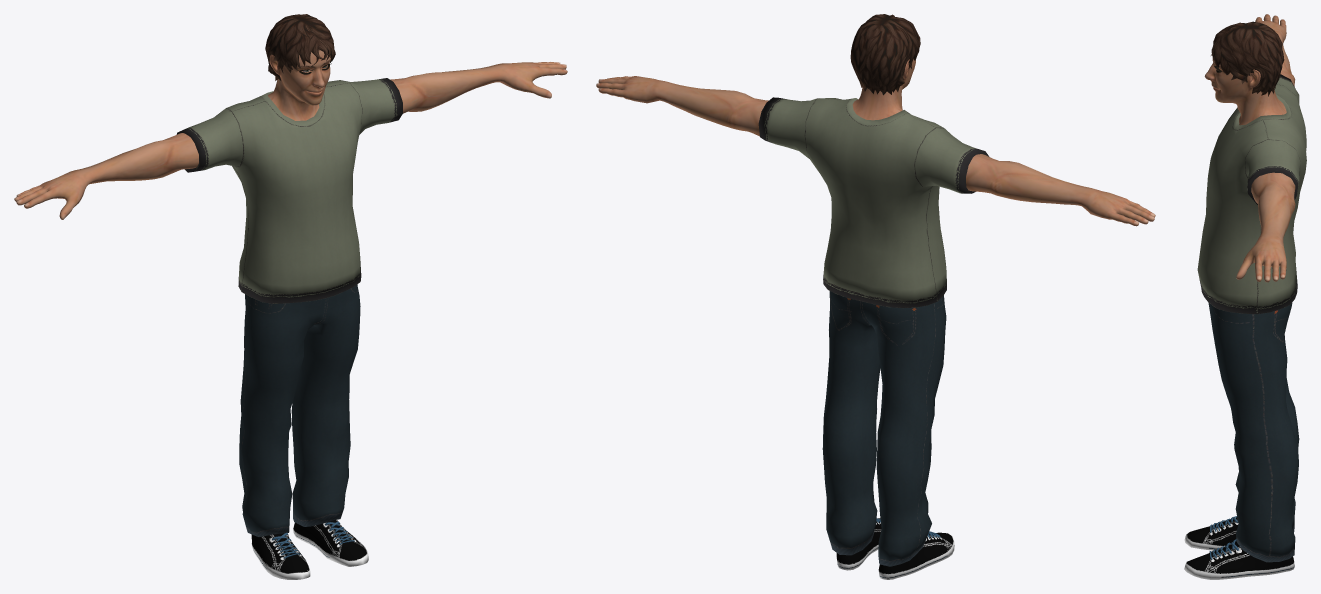
Rendered from Mixamo Fuse 1.obj.
3 views of the same model, side by side, from view 1: azimuth 30°, elevation 25°; view 2: azimuth 150°, elevation 25°; view 3: azimuth 270°, elevation 25° (orthographic).
Parts seen in each view (by area): view 1: ClothMesh_1, ClothMesh_2, BodyParts, ClothMesh_3, ClothMesh_0; view 2: ClothMesh_1, ClothMesh_2, BodyParts, ClothMesh_0, ClothMesh_3; view 3: ClothMesh_2, ClothMesh_1, BodyParts, ClothMesh_0, ClothMesh_3.
Part boxes in pixels (left/top/right/bottom): ClothMesh_1: left=176, top=78, right=402, bottom=303; ClothMesh_2: left=239, top=284, right=360, bottom=536; BodyParts: left=14, top=49, right=567, bottom=219; ClothMesh_3: left=251, top=519, right=368, bottom=579; ClothMesh_0: left=265, top=14, right=335, bottom=80; ClothMesh_1: left=758, top=97, right=989, bottom=308; ClothMesh_2: left=822, top=291, right=946, bottom=566; BodyParts: left=596, top=59, right=1155, bottom=226; ClothMesh_0: left=850, top=14, right=920, bottom=95; ClothMesh_3: left=836, top=518, right=954, bottom=579; ClothMesh_2: left=1208, top=302, right=1299, bottom=562; ClothMesh_1: left=1197, top=74, right=1306, bottom=314; BodyParts: left=1204, top=14, right=1295, bottom=282; ClothMesh_0: left=1211, top=21, right=1284, bottom=96; ClothMesh_3: left=1184, top=516, right=1294, bottom=579.
Bounding box in the file's own units: 194 × 180 × 37.55.
5 materials, 5 textured.
